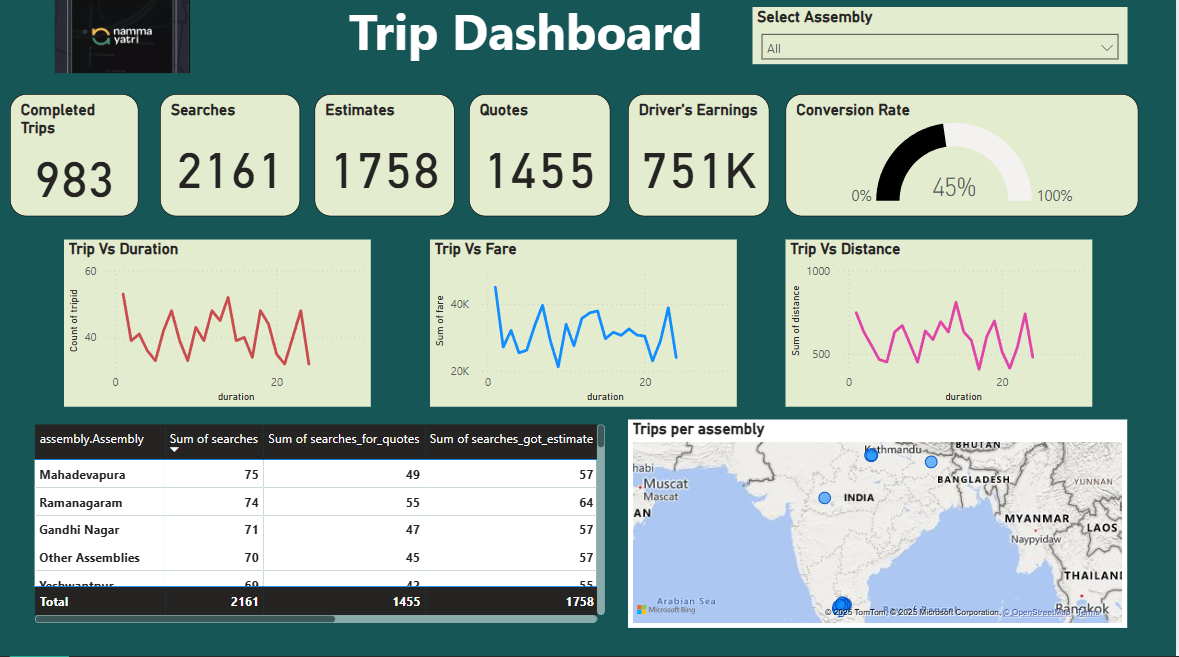

This screenshot's page, from the dashboard's own definition file:
{"tool":"powerbi","page":{"name":"Page 1","canvas":[1280,720],"ordinal":0},"visuals":[{"type":"card","title":"Completed Trips","fields":{"Values":["Sum(trip_details.end_ride)"]},"box":[15.5,110.3,139.7,132.8],"z":0},{"type":"card","title":"Searches","fields":{"Values":["Sum(trip_details.searches)"]},"box":[179.3,110.3,151.7,132.8],"z":1000},{"type":"card","title":"Estimates","fields":{"Values":["Sum(trip_details.searches_got_estimate)"]},"box":[346.6,110.3,151.7,132.8],"z":2000},{"type":"card","title":"Quotes","fields":{"Values":["Sum(trip_details.searches_for_quotes)"]},"box":[513.8,110.3,153.4,132.8],"z":3000},{"type":"card","title":"Driver''s Earnings","fields":{"Values":["Sum(trips.fare)"]},"box":[686.2,110.3,153.4,132.8],"z":4000},{"type":"gauge","fields":{"Y":["assembly.Conversion Rate"]},"box":[856.9,110.3,382.8,132.8],"z":5000},{"type":"lineChart","title":"Trip Vs Duration","fields":{"Category":["trips.duration"],"Y":["CountNonNull(trips.tripid)"]},"box":[74.1,269,332.8,181],"z":6000},{"type":"lineChart","title":"Trip Vs Fare","fields":{"Category":["trips.duration"],"Y":["Sum(trips.fare)"]},"box":[472.4,269,332.8,181],"z":7000},{"type":"lineChart","title":"Trip Vs Distance","fields":{"Category":["trips.duration"],"Y":["Sum(trips.distance)"]},"box":[856.9,269,332.8,181],"z":8000},{"type":"tableEx","fields":{"Values":["Merge2.assembly.Assembly","Sum(Merge2.searches)","Sum(Merge2.searches_for_quotes)","Sum(Merge2.searches_got_estimate)","Sum(Merge2.searches_got_quotes)","Sum(Merge2.trips.fare)","Sum(Merge2.trips.distance)","assembly.Conversion Rate"]},"box":[37.9,463.8,629.3,225.9],"z":8001},{"type":"map","title":"Trips per assembly","fields":{"Category":["Merge2.assembly.Assembly"],"Size":["CountNonNull(Merge2.tripid)"]},"box":[686.2,463.8,541.4,225.9],"z":8002},{"type":"image","box":[0,0,275.9,93.1],"z":8003},{"type":"textbox","box":[294.8,0,562.1,93.1],"z":8004},{"type":"slicer","title":"Select Assembly","fields":{"Values":["Merge2.assembly.Assembly"]},"box":[820.7,15.5,406.9,62.1],"z":8005}]}

Visuals, with their boxes in screenshot pixels (x1, y1, x2, y2), scaled from the page's 1280x720 canvas onto the 1179x657 screenshot:
"Completed Trips" card: bbox(14, 101, 143, 222)
"Searches" card: bbox(165, 101, 305, 222)
"Estimates" card: bbox(319, 101, 459, 222)
"Quotes" card: bbox(473, 101, 615, 222)
"Driver''s Earnings" card: bbox(632, 101, 773, 222)
gauge - assembly.Conversion Rate: bbox(789, 101, 1142, 222)
"Trip Vs Duration" lineChart: bbox(68, 245, 375, 411)
"Trip Vs Fare" lineChart: bbox(435, 245, 742, 411)
"Trip Vs Distance" lineChart: bbox(789, 245, 1096, 411)
tableEx - Merge2.assembly.Assembly x Sum(Merge2.searches): bbox(35, 423, 615, 629)
"Trips per assembly" map: bbox(632, 423, 1131, 629)
image: bbox(0, 0, 254, 85)
textbox: bbox(272, 0, 789, 85)
"Select Assembly" slicer: bbox(756, 14, 1131, 71)
